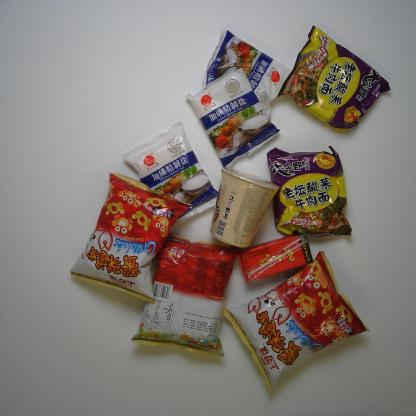Drink: (235, 232, 316, 288)
Instant Noodles: (271, 21, 391, 139), (263, 145, 357, 242), (208, 163, 283, 253)
Puffed Food: (218, 249, 370, 397), (66, 169, 195, 306), (124, 231, 244, 359)
Seasoner: (120, 119, 227, 237), (186, 64, 281, 172), (200, 28, 293, 118)
